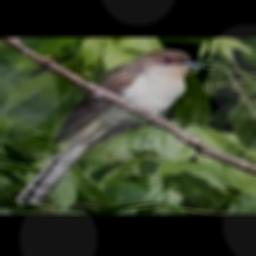Cuckoo: (15, 49, 208, 208)
